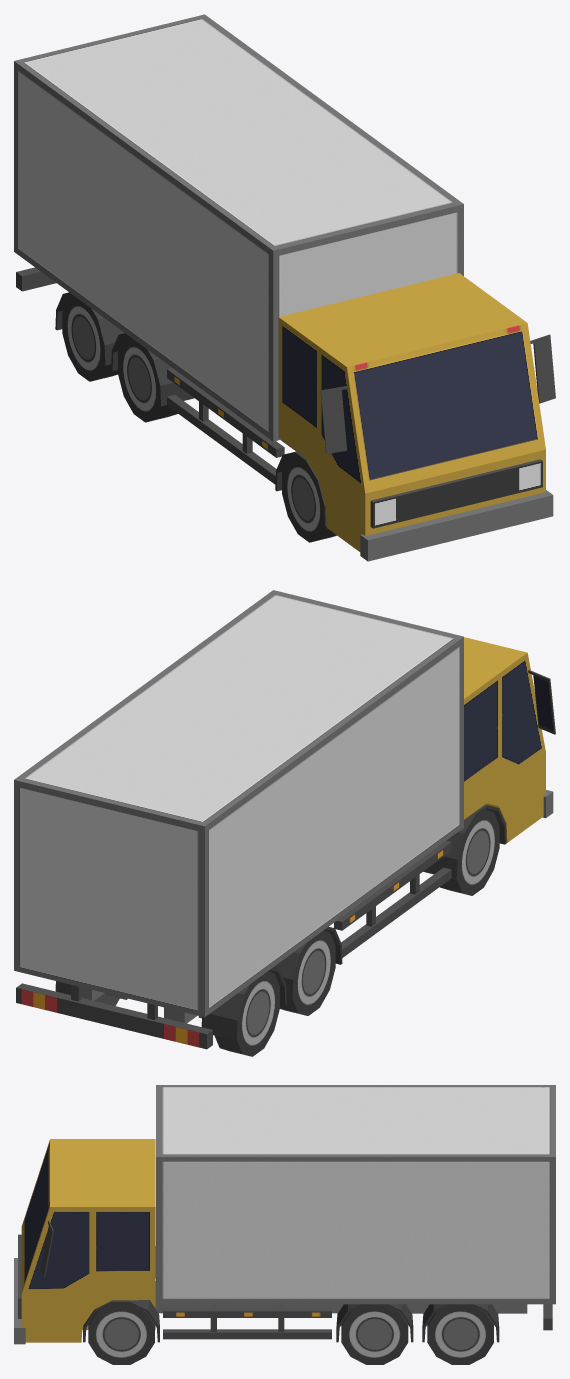
File: Lorry_003.fbx
3 views of the same model, one above another, from view 1: azimuth 30°, elevation 25°; view 2: azimuth 150°, elevation 25°; view 3: azimuth 270°, elevation 25° (orthographic). The views are drawn at different scales.
Visible parts, largest first — view 1: Lorry_003; view 2: Lorry_003; view 3: Lorry_003.
Part boxes in pixels (x1,y1,x2,y2): Lorry_003: (14, 14, 555, 561); Lorry_003: (14, 590, 555, 1056); Lorry_003: (14, 1085, 555, 1364).
Size of the model in its own units: 328 by 373 by 869.
